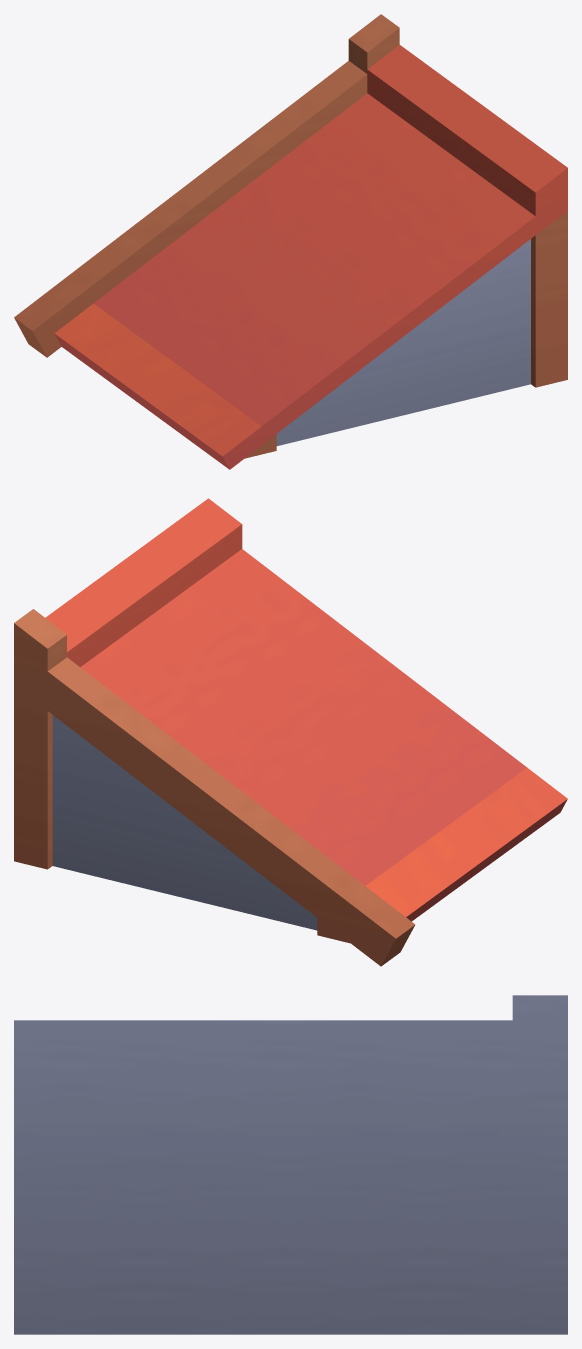
Rendered from roofLeft.fbx.
The picture shows the model from 3 angles, top to bottom: view 1: azimuth 30°, elevation 25°; view 2: azimuth 150°, elevation 25°; view 3: azimuth 270°, elevation 25°; orthographic projection. The views are drawn at different scales.
Parts seen in each view (by area): view 1: roofLeft; view 2: roofLeft; view 3: roofLeft.
Boxes of the visible parts, x1=… form: roofLeft: x1=14, y1=14, x2=567, y2=469; roofLeft: x1=14, y1=498, x2=567, y2=966; roofLeft: x1=14, y1=995, x2=567, y2=1334.
Bounding box in the file's own units: 1.13 × 1 × 0.7206.
